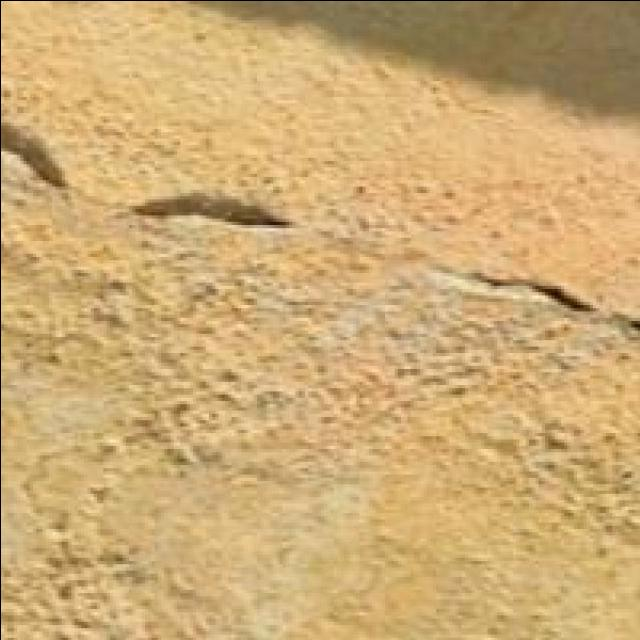SurfaceCrack: (0, 98, 310, 242), (418, 240, 640, 378)
